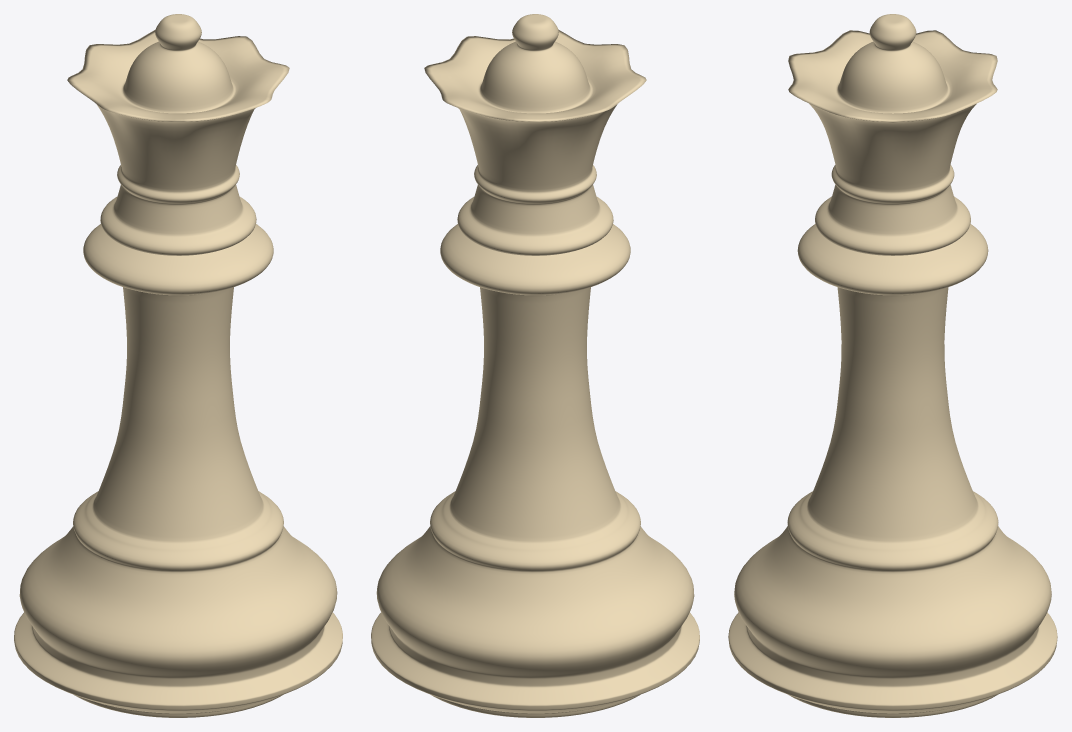
The model's file is gercektam_q_w.glb.
3 renders of one model, left to right at view 1: azimuth 30°, elevation 25°; view 2: azimuth 150°, elevation 25°; view 3: azimuth 270°, elevation 25°, orthographic.
Visible parts, largest first — view 1: Sphere.006; view 2: Sphere.006; view 3: Sphere.006.
Part boxes in pixels (x1,y1,x2,y2): Sphere.006: (14, 14, 342, 717); Sphere.006: (371, 14, 699, 717); Sphere.006: (728, 14, 1057, 717).
Size of the model in its own units: 1.21 by 2.62 by 1.21.
